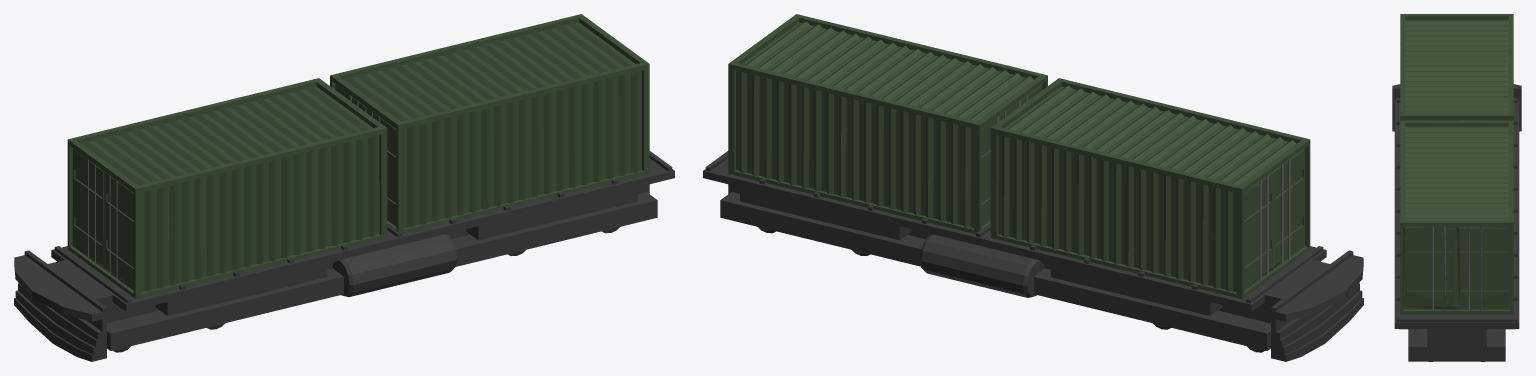
Rendered from cargo-train-container.glb.
The picture shows the model from 3 angles, left to right: view 1: azimuth 30°, elevation 25°; view 2: azimuth 150°, elevation 25°; view 3: azimuth 270°, elevation 25°; orthographic projection. The views are drawn at different scales.
Visible parts, largest first — view 1: Wagon_Container; view 2: Wagon_Container; view 3: Wagon_Container.
Part boxes in pixels (x1=…): Wagon_Container: x1=14, y1=14, x2=674, y2=361; Wagon_Container: x1=703, y1=14, x2=1363, y2=361; Wagon_Container: x1=1392, y1=14, x2=1521, y2=361.
Size of the model in its own units: 9.26 by 2.58 by 2.06.
